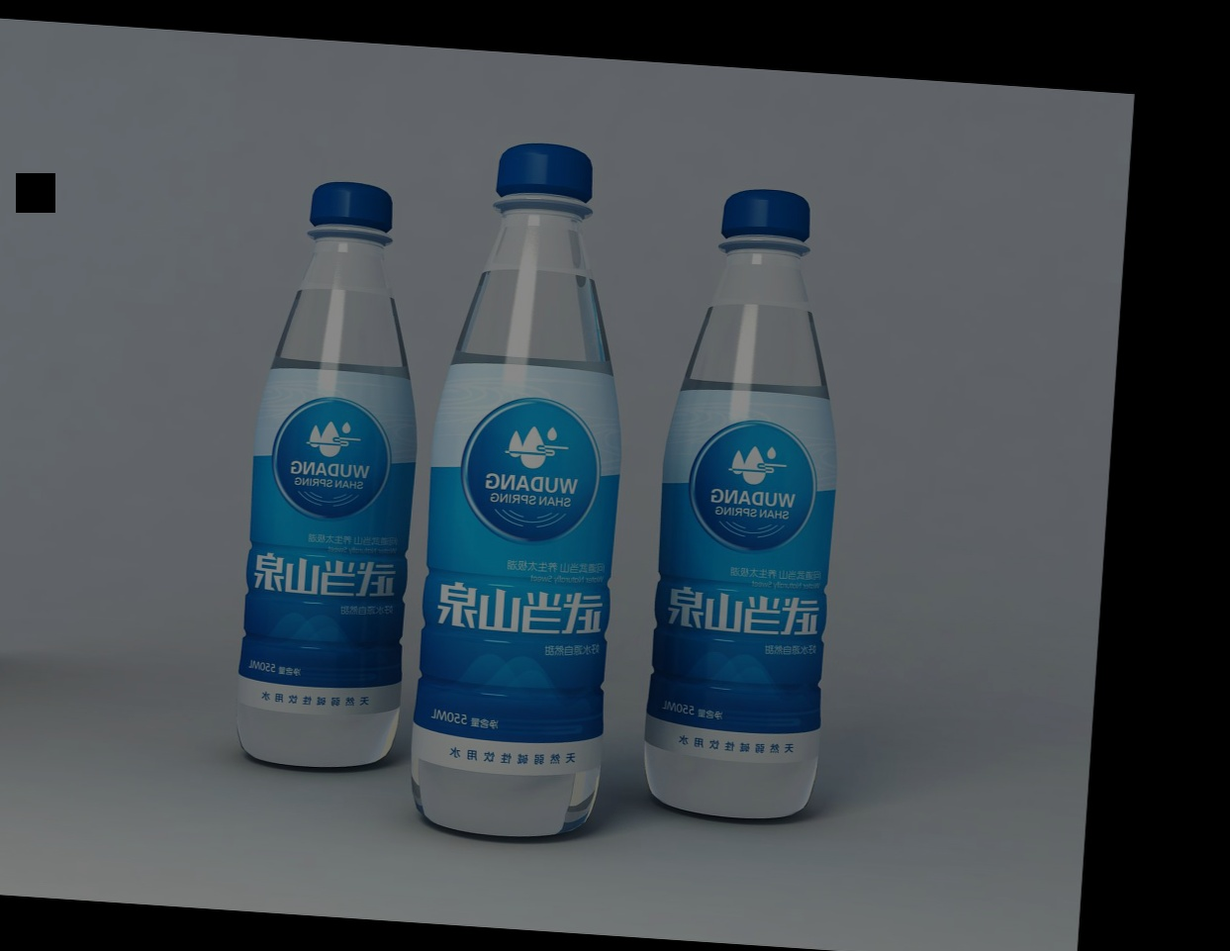bottle: (419, 128, 654, 869), (225, 142, 409, 785)
